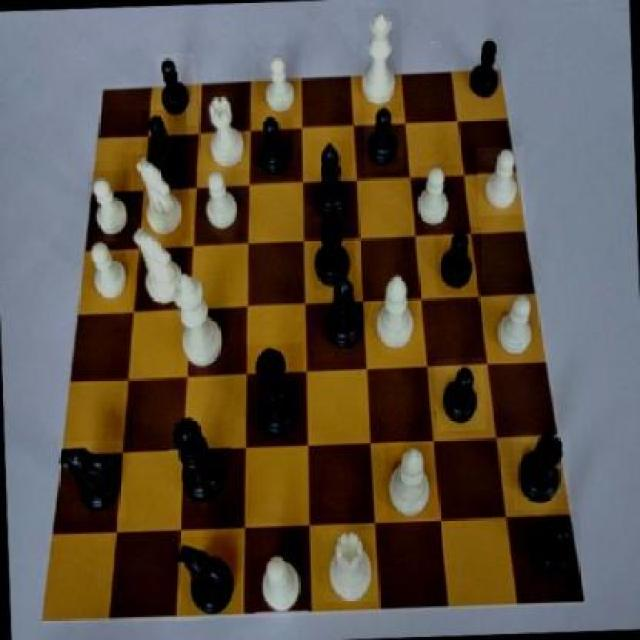bishop: (308, 138, 354, 232), (320, 272, 367, 353)
black-bishop: (244, 343, 306, 443)
black-king: (172, 535, 242, 618), (57, 438, 125, 520)
black-knight: (529, 512, 582, 585), (434, 358, 486, 432), (142, 109, 188, 185), (463, 30, 508, 106), (155, 52, 198, 126), (434, 228, 481, 295), (251, 111, 295, 178), (363, 100, 403, 172)
black-pawn: (168, 409, 232, 507)
black-queen: (514, 431, 571, 512), (309, 209, 356, 292)
black-rook: (368, 271, 424, 361), (386, 445, 440, 520)
white-bishop: (172, 269, 230, 377)
white-king: (132, 152, 190, 242), (129, 218, 185, 311)
white-knight: (254, 550, 309, 614), (477, 146, 526, 216), (256, 46, 302, 117), (85, 235, 132, 303), (200, 171, 246, 240), (416, 164, 462, 233), (88, 170, 134, 238), (494, 294, 538, 361)
white-pawn: (355, 8, 403, 120)
white-queen: (200, 91, 252, 170), (322, 530, 378, 602)
